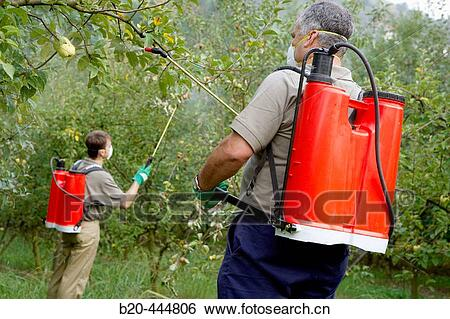berrl: (284, 73, 405, 255), (47, 157, 88, 234)
